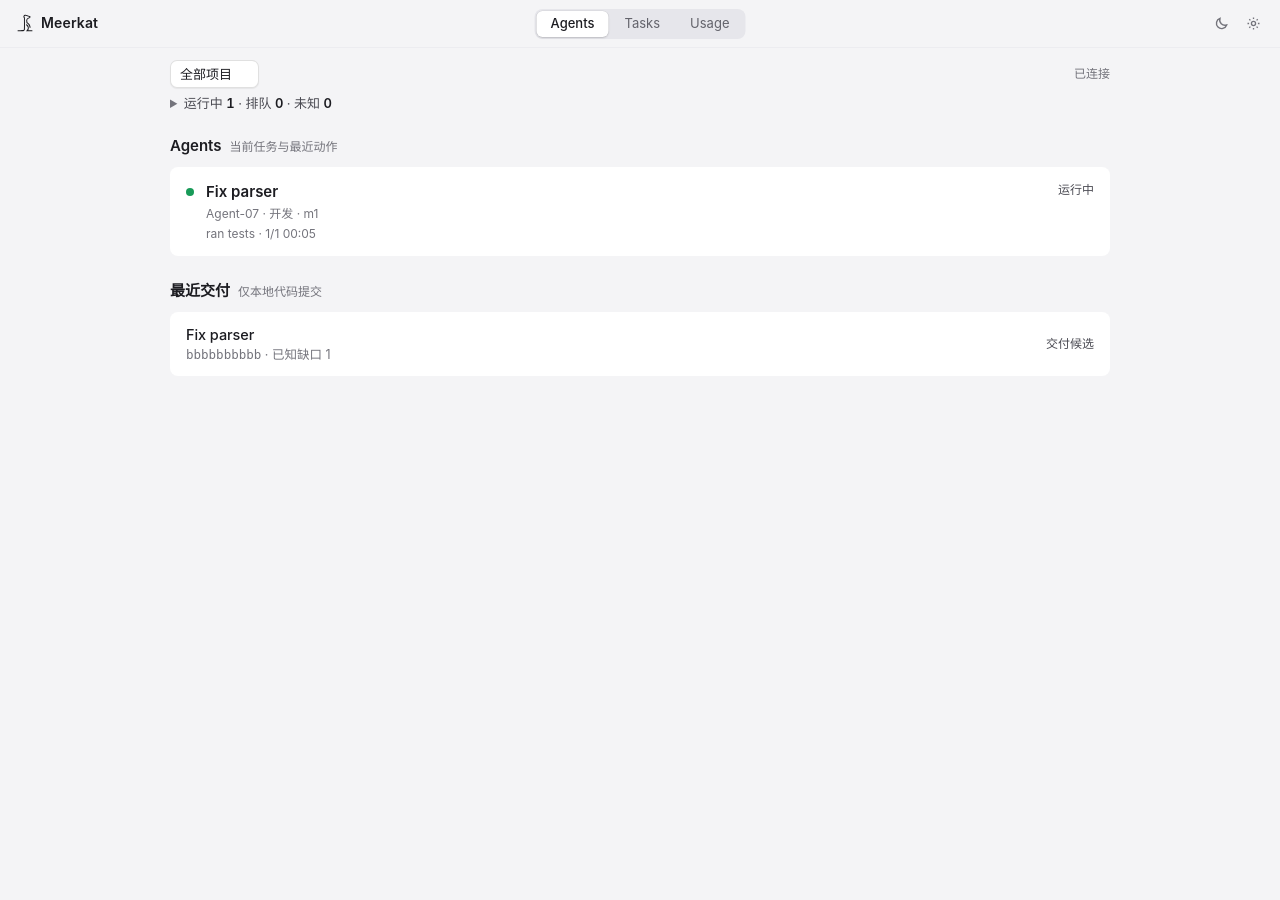
Scenario: App › shows monitor thresholds without inventing a remaining task cap
The image size is (1280, 900).
Click the button "Tasks" at (642, 24), box [610,10,674,36]
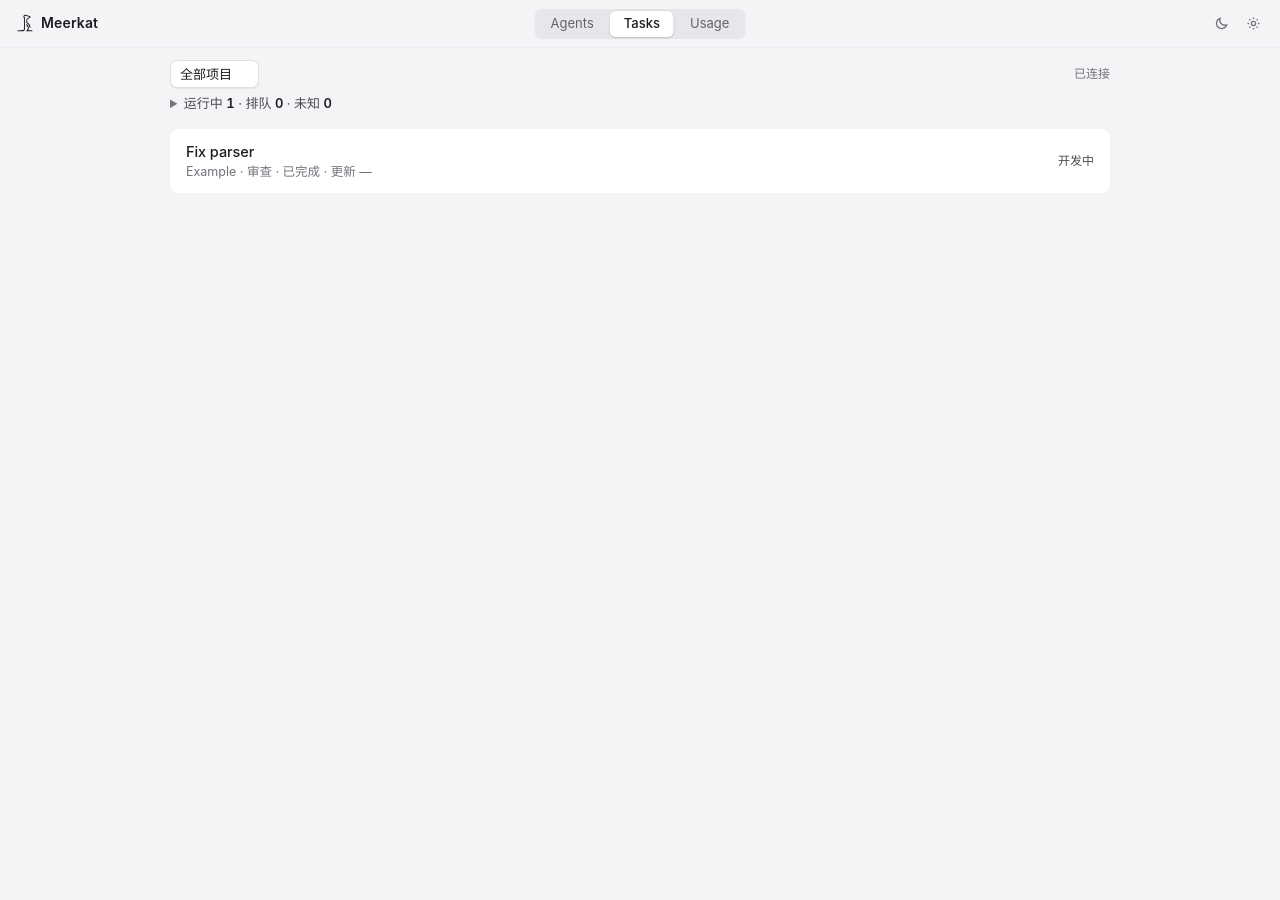
Click the text "Fix parser" at (220, 151), box [186,143,254,160]
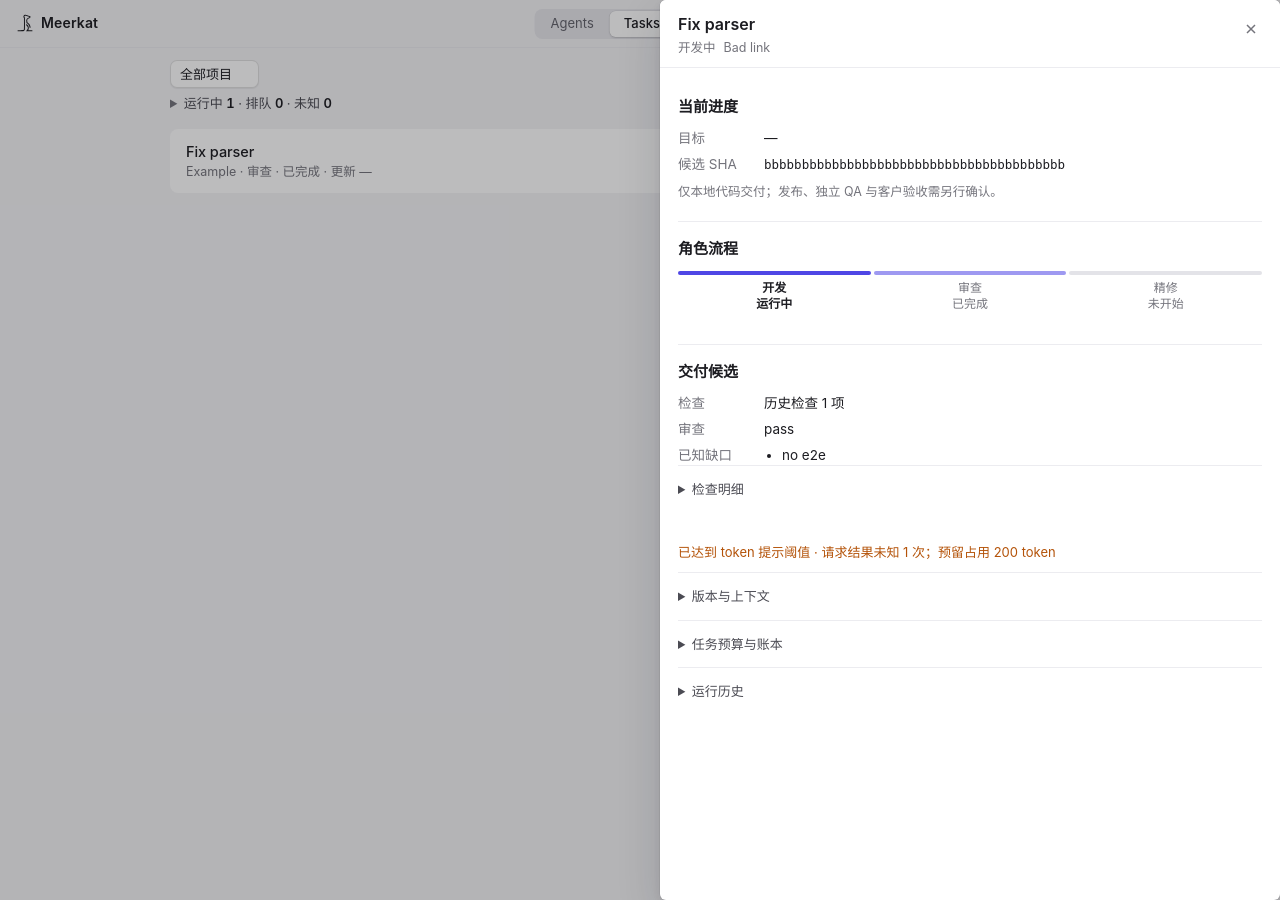
Check: the dialog shows "已达到 token 提示阈值", box [678,544,1056,560]
Check: the dialog shows "结果未知 1", box [678,544,1056,560]
